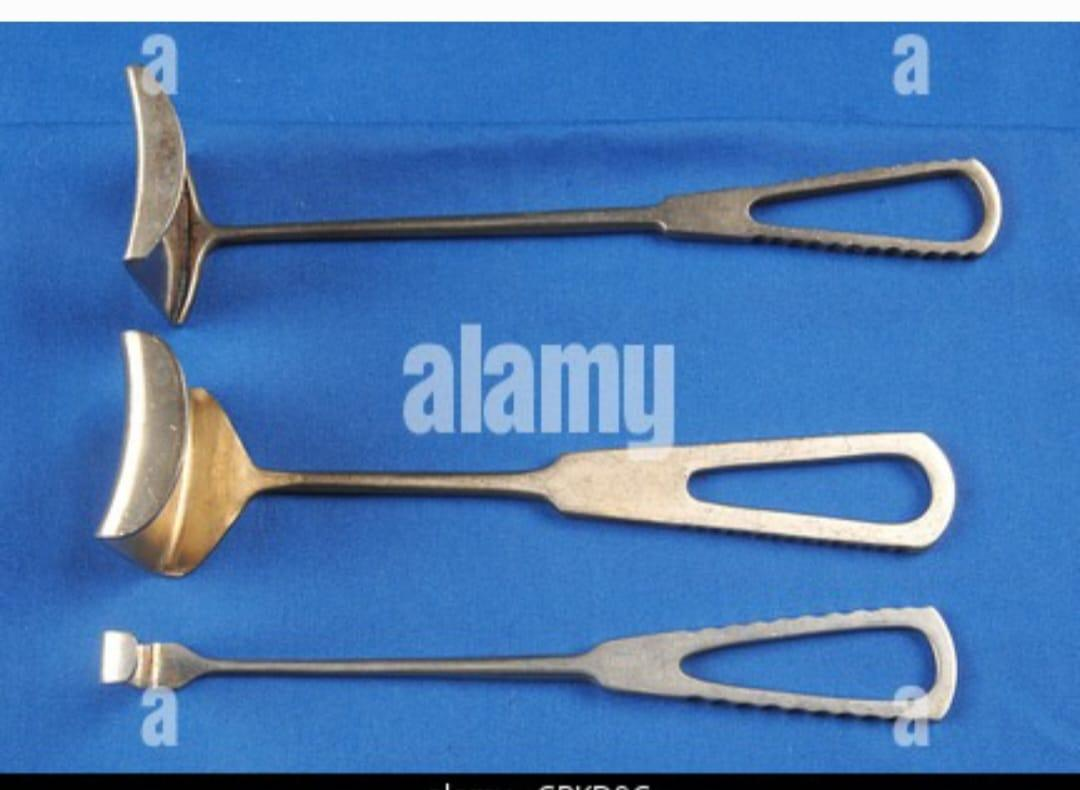Morris Retractor: (104, 49, 1019, 314), (80, 323, 961, 584)
